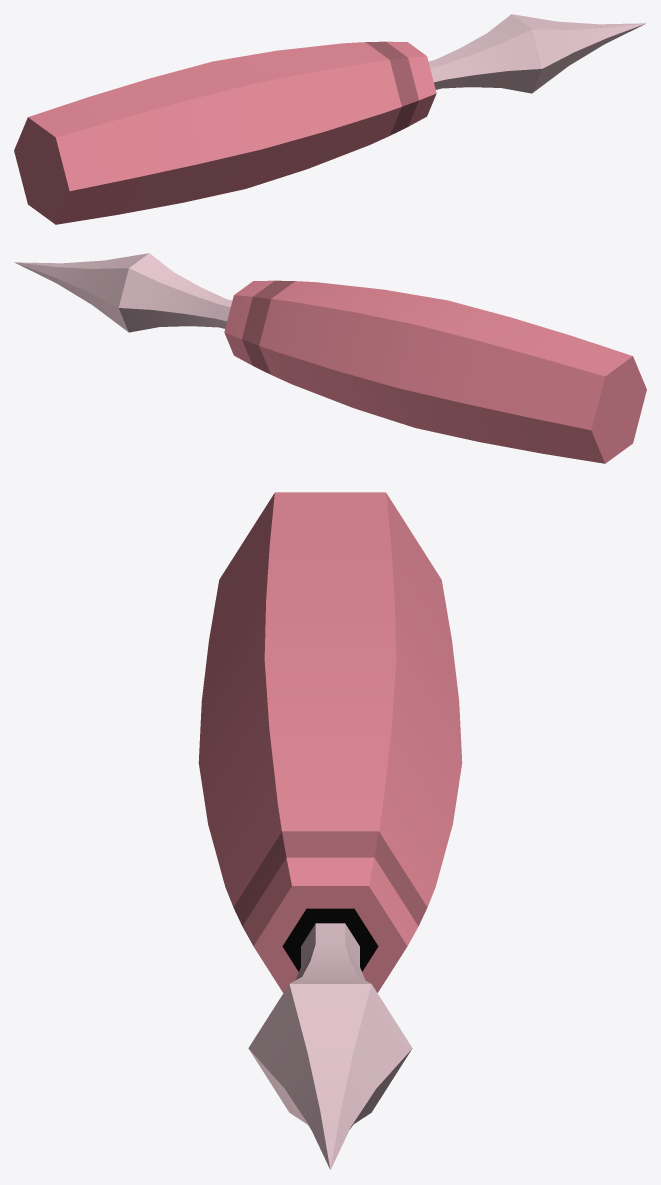
Rendered from Grapple.fbx.
3 views of the same model, one above another, from view 1: azimuth 30°, elevation 25°; view 2: azimuth 150°, elevation 25°; view 3: azimuth 270°, elevation 25° (orthographic). The views are drawn at different scales.
Visible parts, largest first — view 1: Arm, Hook; view 2: Arm, Hook; view 3: Arm, Hook.
Part boxes in pixels (box(x1,y1,x2,y2)): Arm: box(14, 41, 436, 224); Hook: box(428, 14, 646, 93); Arm: box(224, 280, 646, 463); Hook: box(14, 253, 232, 332); Arm: box(198, 492, 462, 992); Hook: box(248, 923, 412, 1170).
Bounding box in the file's own units: 34.17 × 29.6 × 181.
